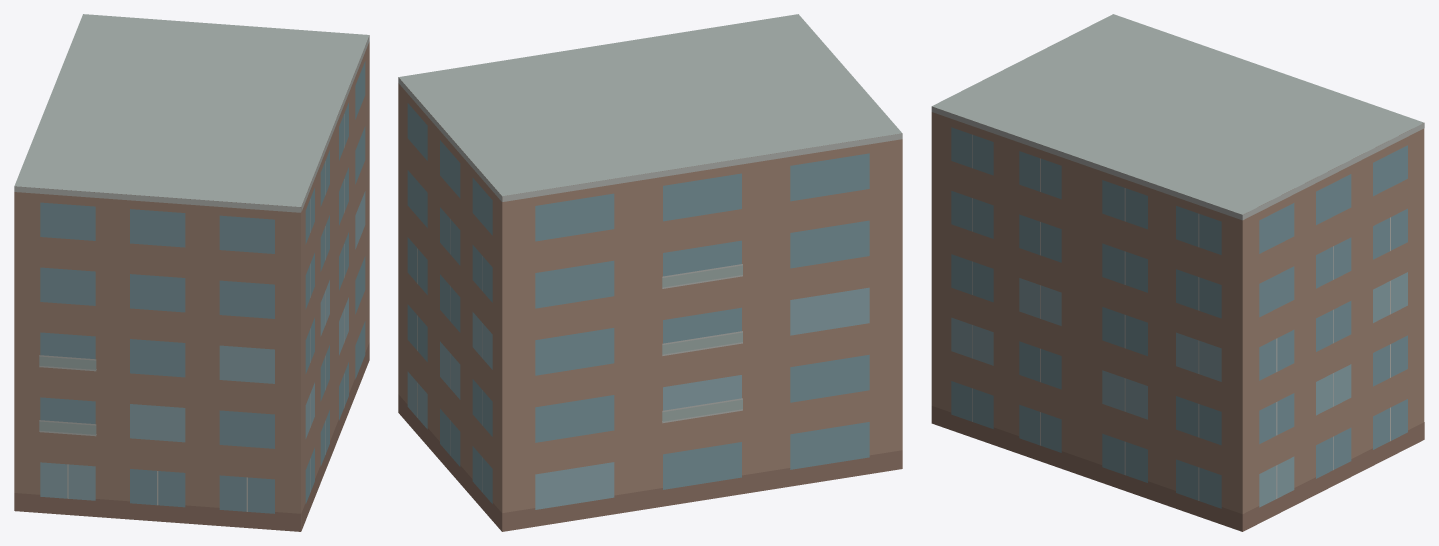
Rendered from survey-upis-32672415.glb.
The picture shows the model from 3 angles, left to right: view 1: azimuth 30°, elevation 25°; view 2: azimuth 150°, elevation 25°; view 3: azimuth 270°, elevation 25°; orthographic projection. The views are drawn at different scales.
Visible parts, largest first — view 1: survey-upis-32672415.tmp; view 2: survey-upis-32672415.tmp; view 3: survey-upis-32672415.tmp.
Part boxes in pixels (<box>): survey-upis-32672415.tmp: <box>14,14,369,531</box>; survey-upis-32672415.tmp: <box>398,14,902,531</box>; survey-upis-32672415.tmp: <box>931,14,1424,531</box>.
Size of the model in its own units: 18.89 by 13.9 by 19.59.
